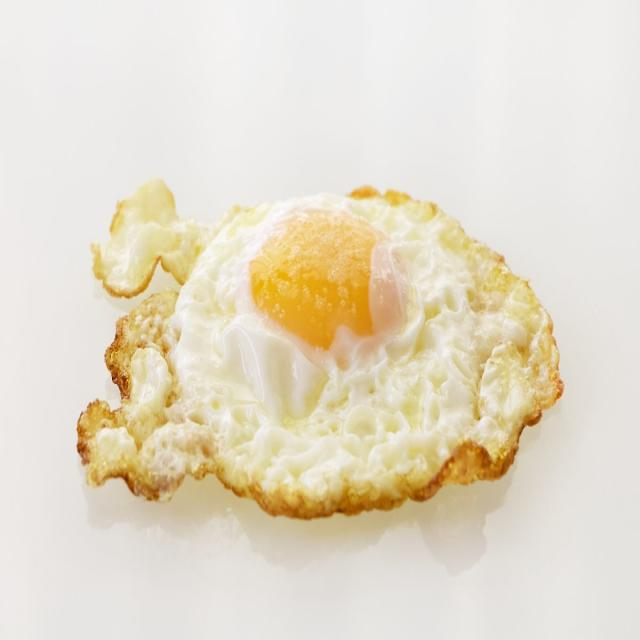huevos: (70, 153, 573, 523)
